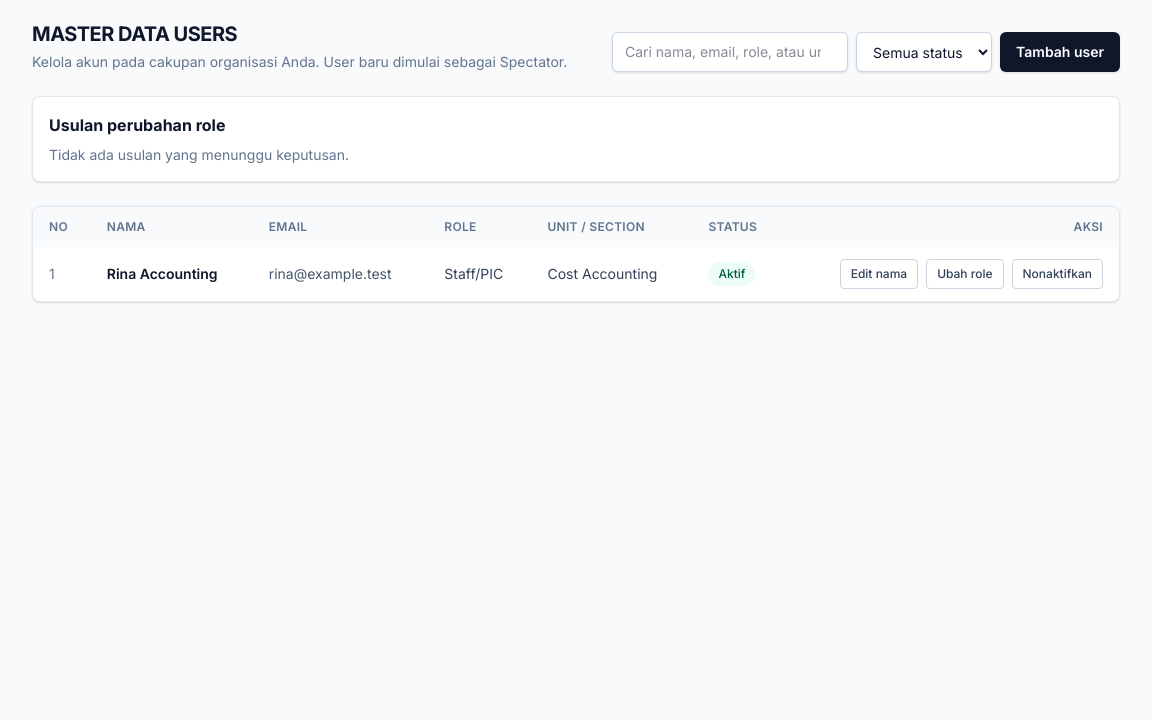
Test case: UserManagement (FR-003, FR-004, FR-005) › opens the role and placement dialog for an eligible user
What coordinates should you click on to do the following:
click the button "Ubah role"
I would click on:
 (965, 274)
Its box is 926,259 -> 1004,289.
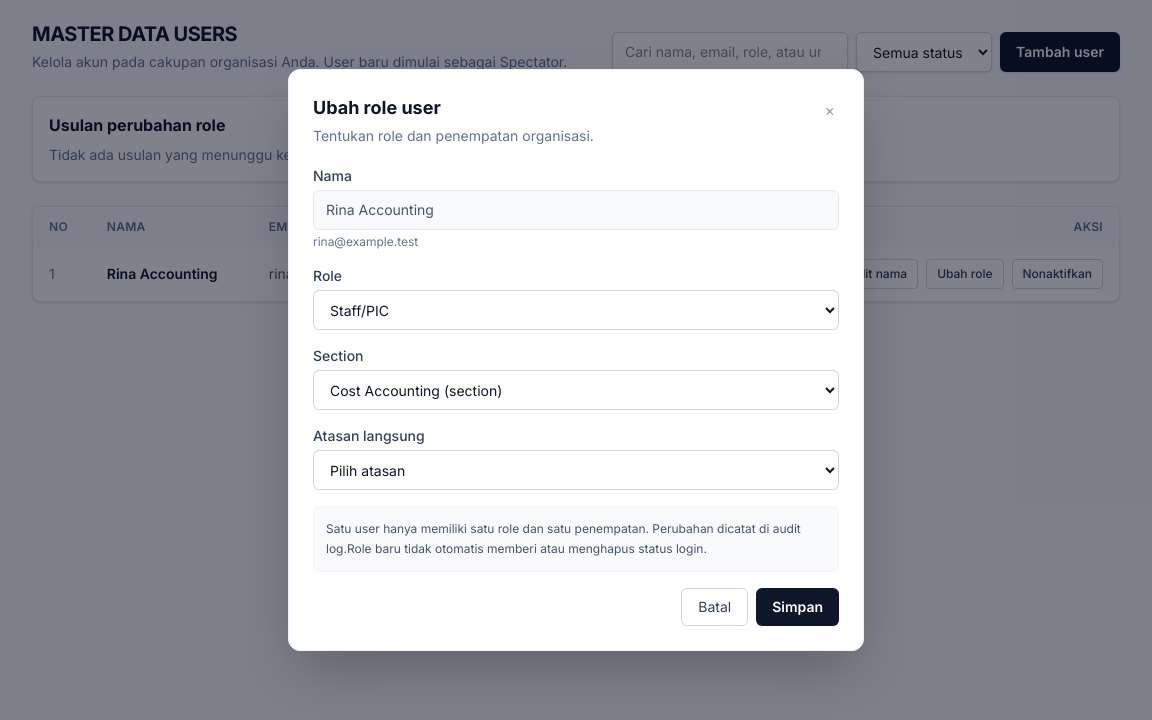
Expected: the dialog "Ubah role user" is shown, 288,69 -> 864,651
Expected: the dropdown labelled "Role" is shown, 313,290 -> 839,330
Expected: the dropdown labelled "Section" is shown, 313,370 -> 839,410
